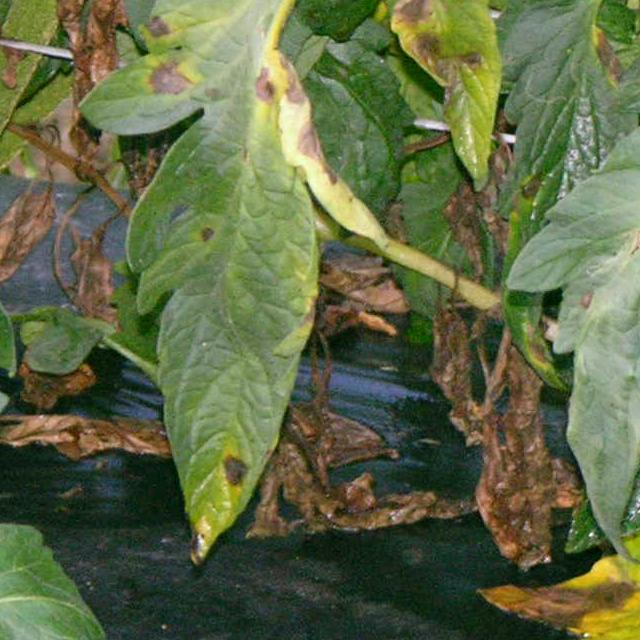Tomato Early blight leaf: (94, 0, 344, 568), (373, 0, 520, 165), (628, 0, 640, 99)
